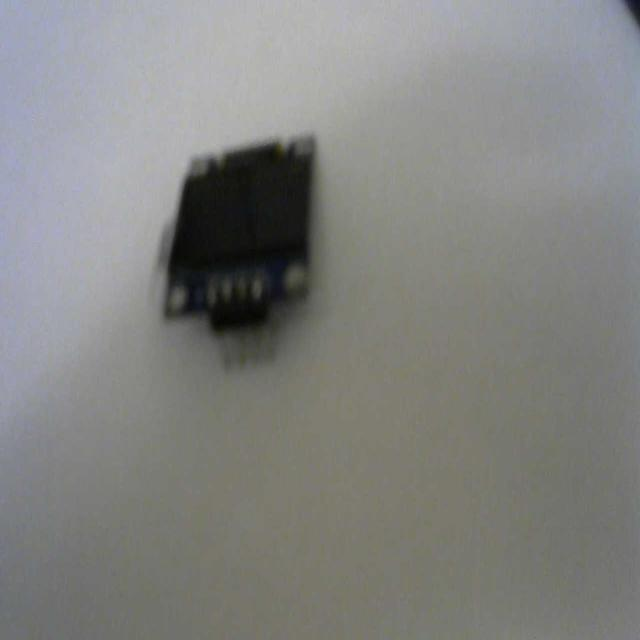oled: (157, 135, 325, 381)
